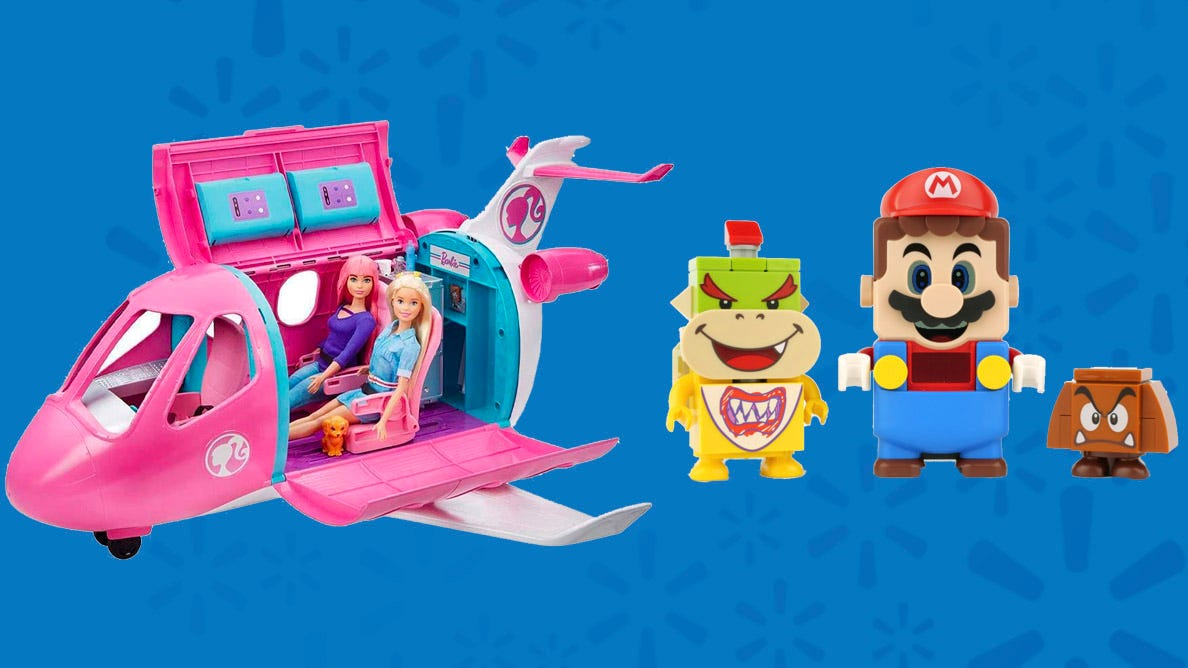toy: (65, 85, 675, 626)
